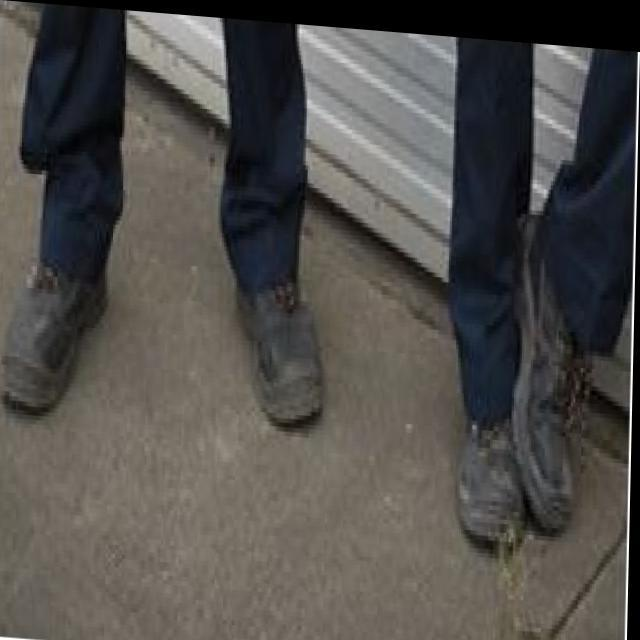boots: (0, 139, 331, 445), (436, 170, 613, 564)
